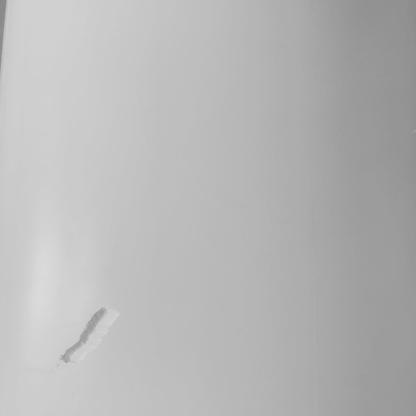sunshang: (64, 307, 114, 369)
